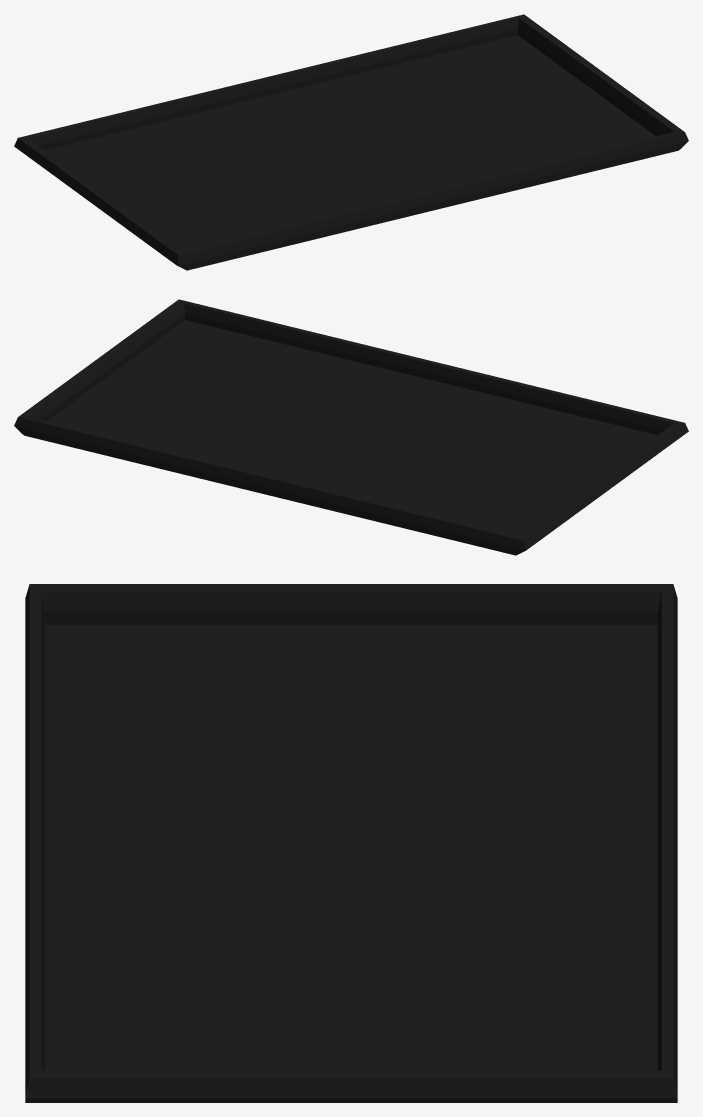
File: Tray_B.FBX
The picture shows the model from 3 angles, top to bottom: view 1: azimuth 30°, elevation 25°; view 2: azimuth 150°, elevation 25°; view 3: azimuth 270°, elevation 25°; orthographic projection. The views are drawn at different scales.
Visible parts, largest first — view 1: Tray; view 2: Tray; view 3: Tray.
Part boxes in pixels (box(x1,y1,x2,y2)): Tray: box(14, 14, 688, 270); Tray: box(14, 299, 688, 555); Tray: box(25, 584, 677, 1102).
Bounding box in the file's own units: 155 × 4.61 × 85.82.
